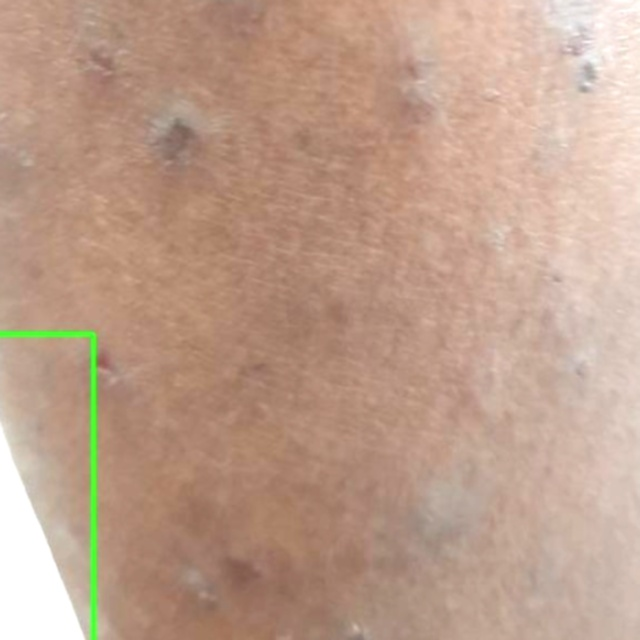Atopic Dermatitis: (0, 335, 94, 639)
